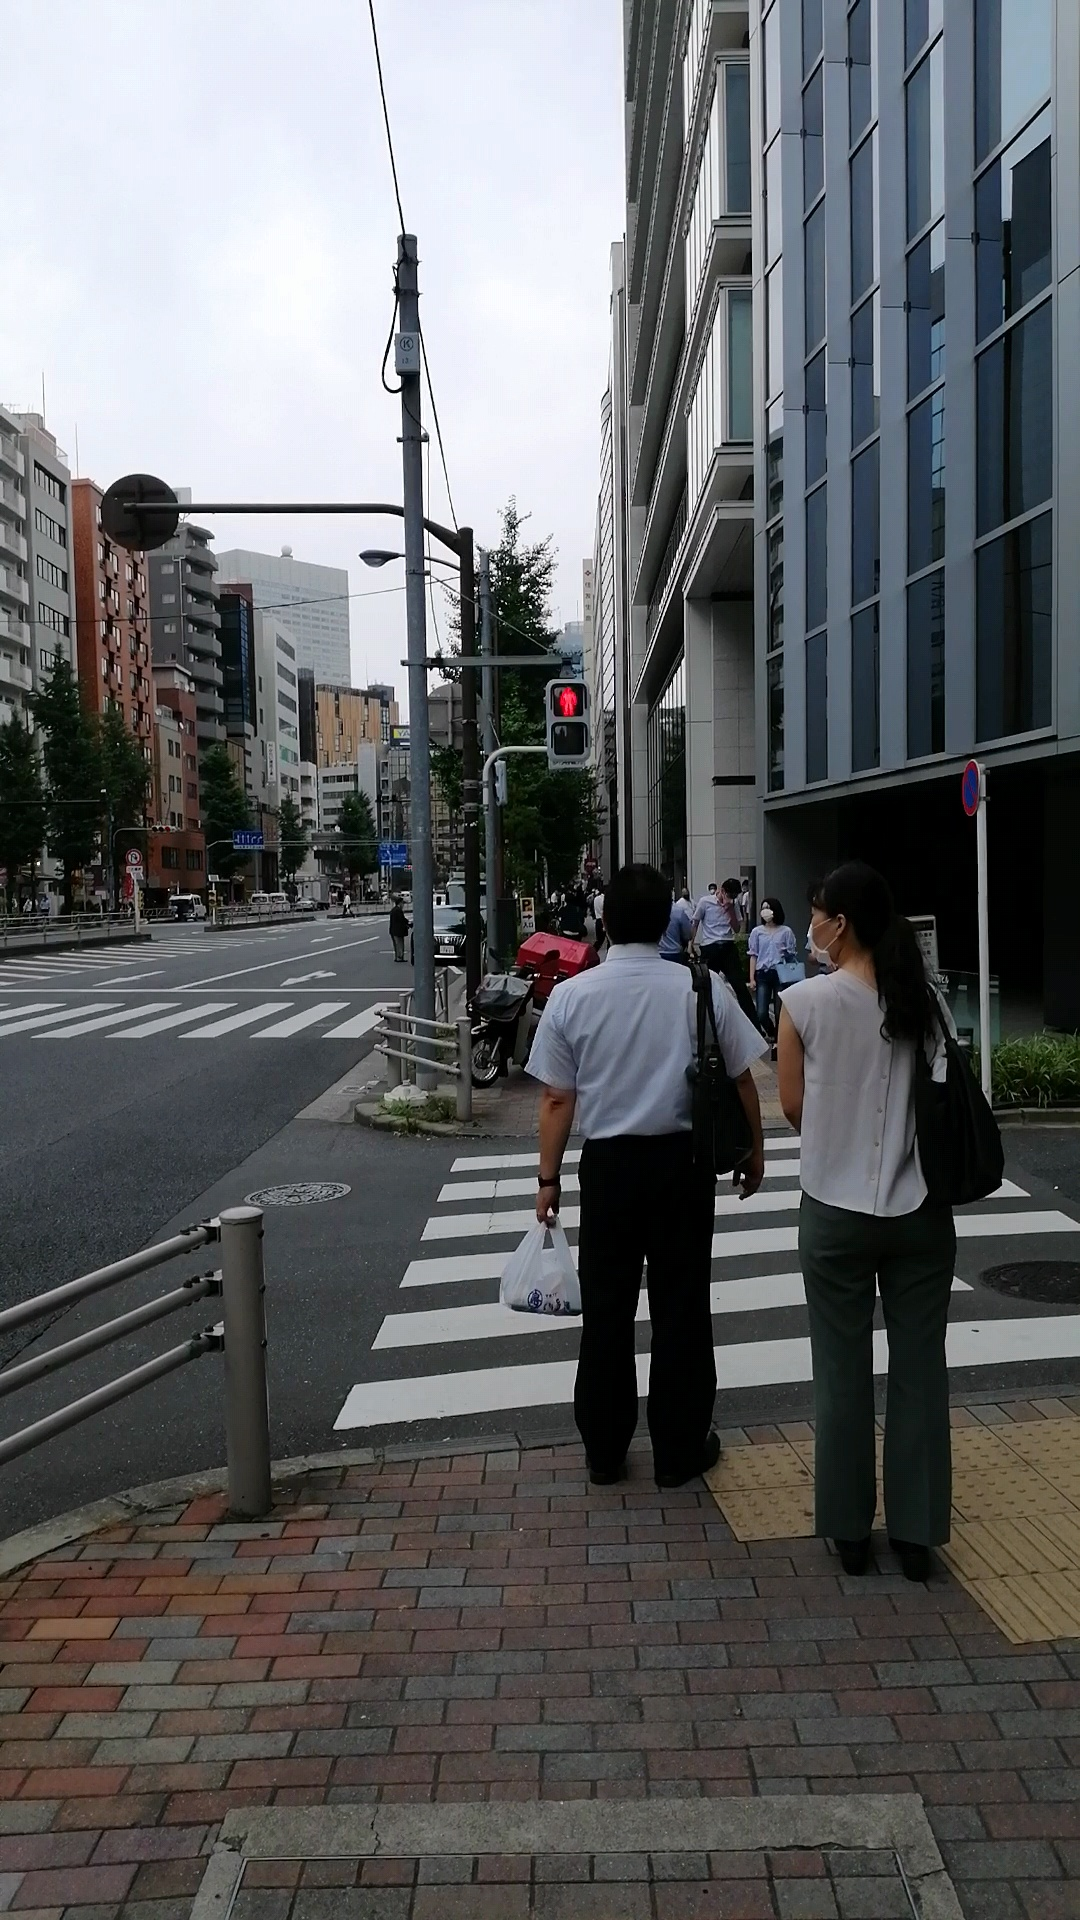red: (545, 676, 591, 765)
